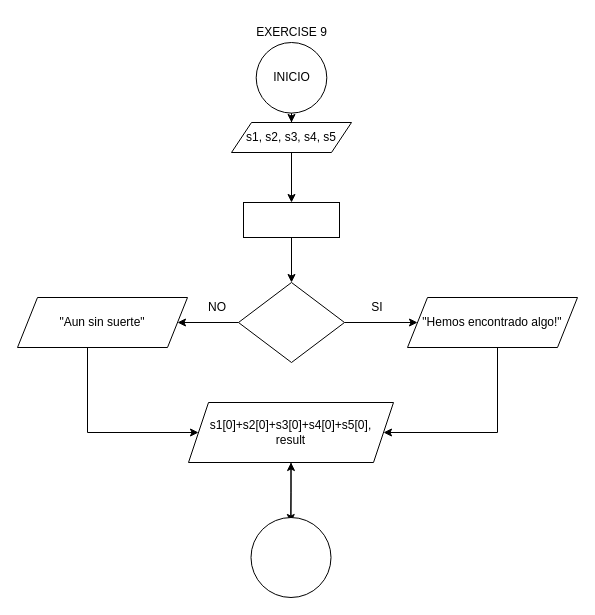
This 595x615 diagram has some shape labels left out. Here are the shapes that lost their labels. From the top down, the centre of each, then its label:
At pixel 291 220: "result".
At pixel 291 322: "s1[0]==s5[0] ?".
At pixel 290 557: "FIN".
